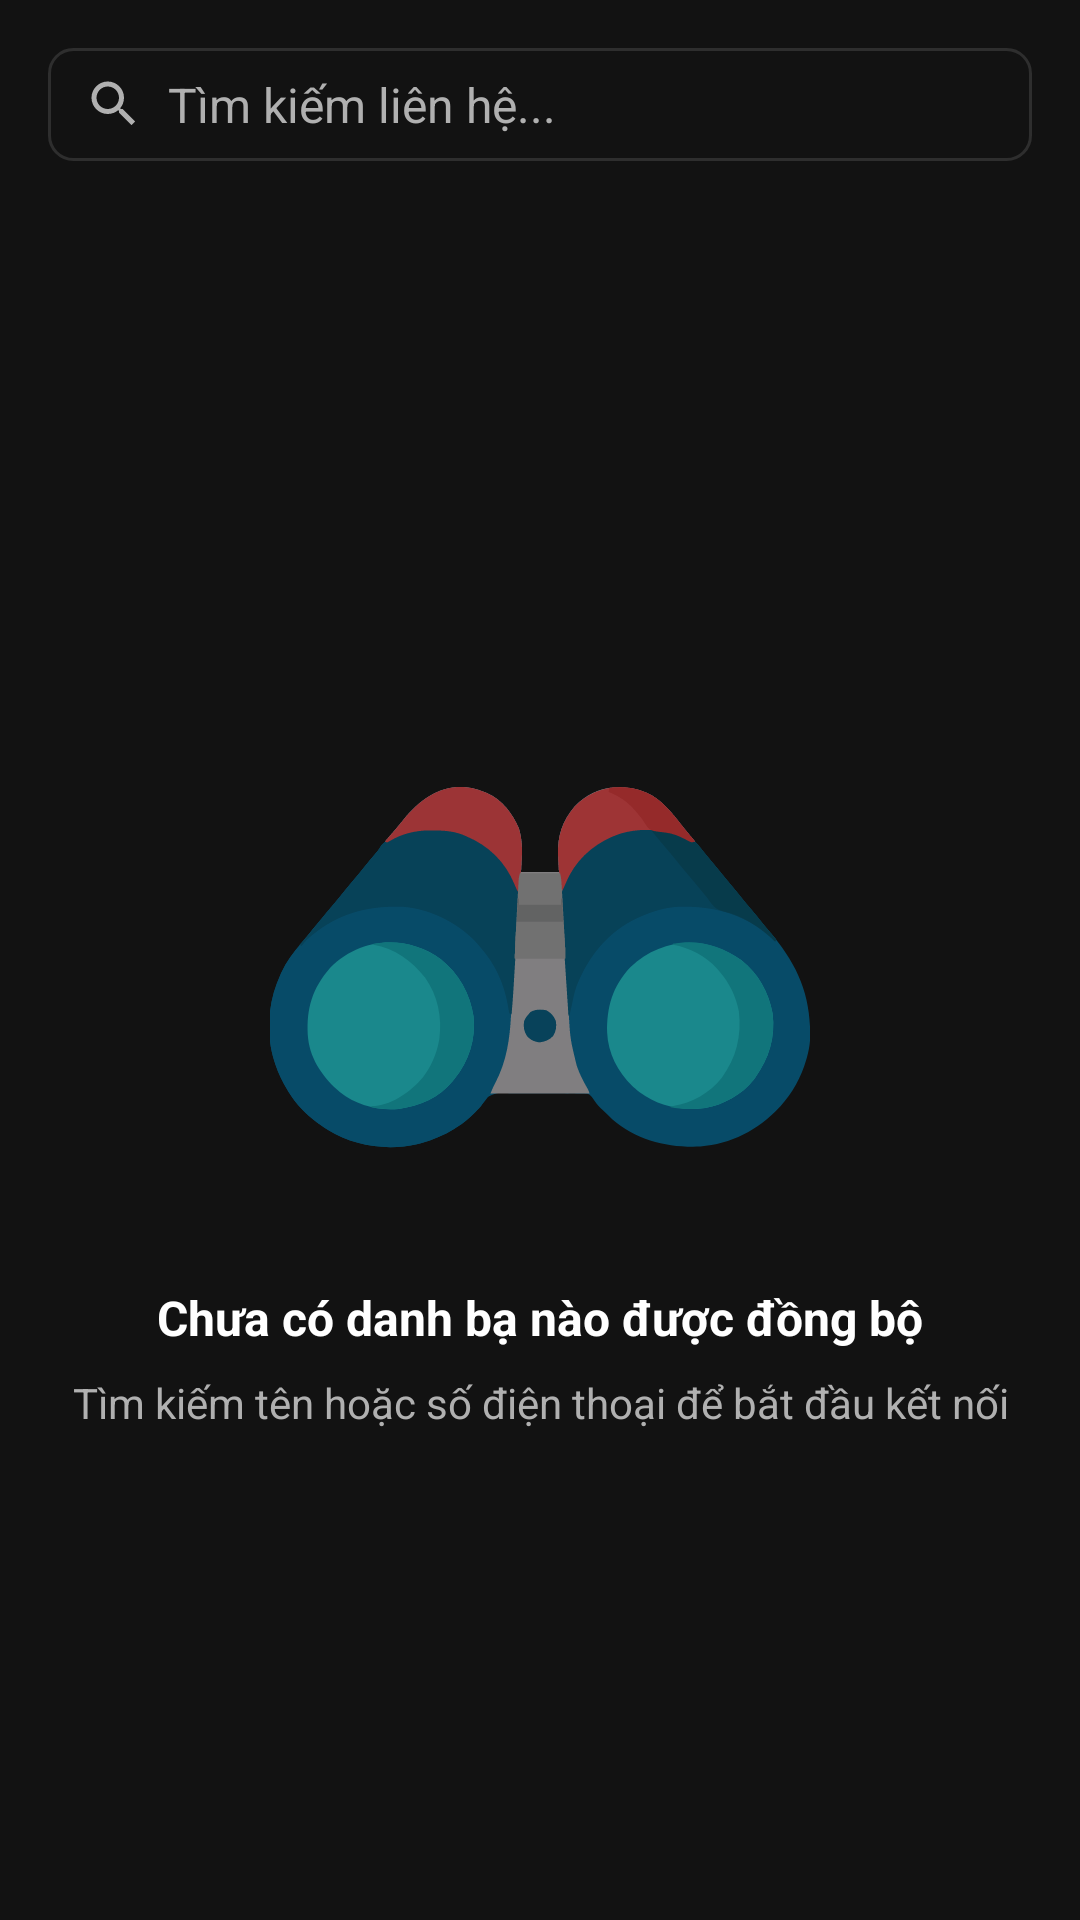

Where to tap for icons on this 1080w x 1920h app screen, as [x,y]:
search: [113,103]
